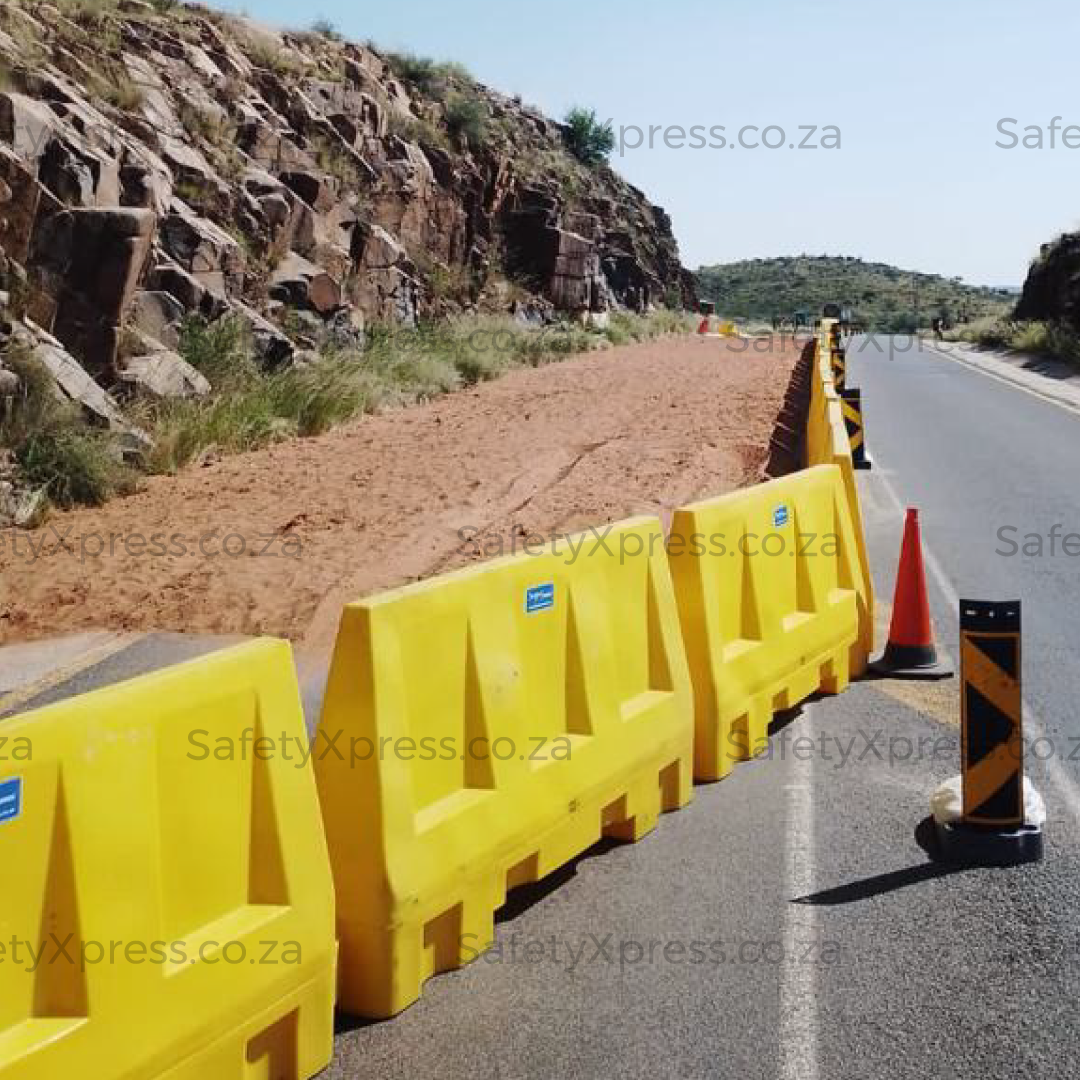Barrier: (44, 505, 841, 973)
Road_cone: (862, 496, 952, 675)
